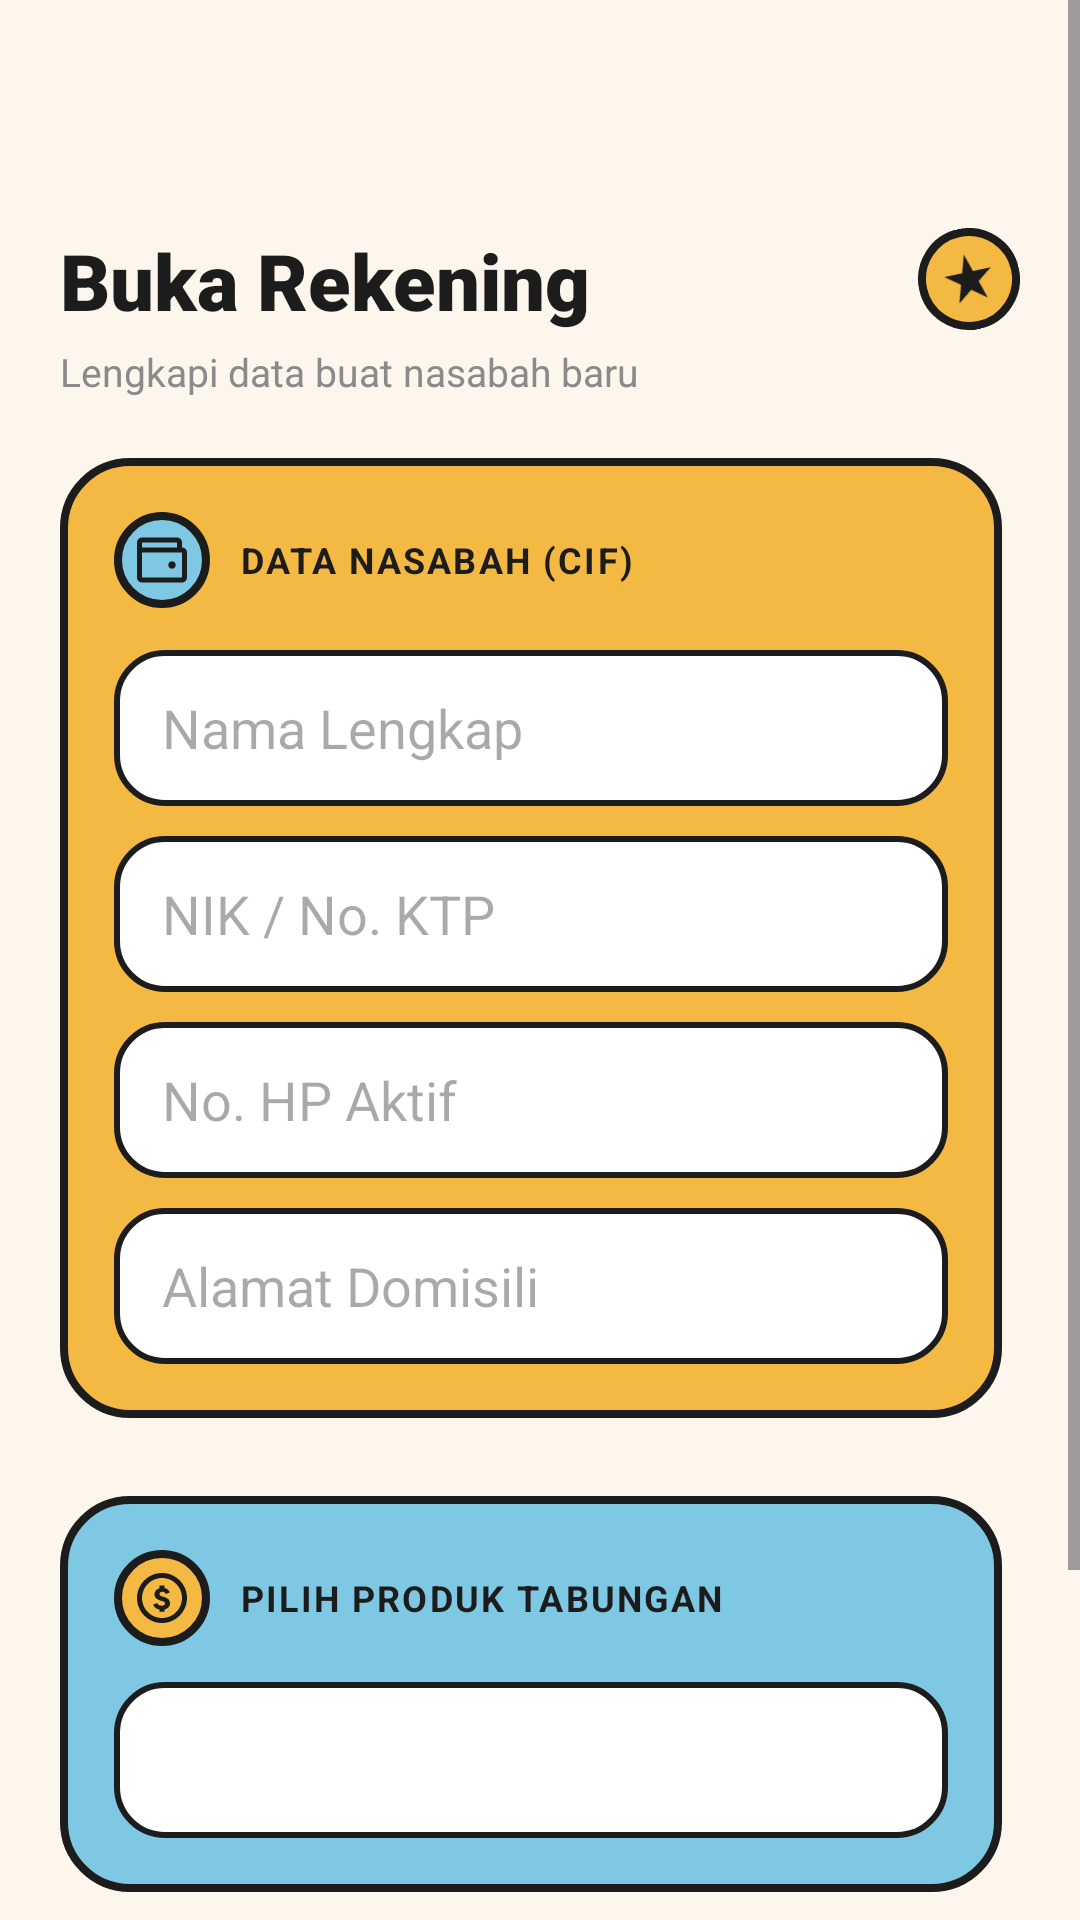

Named icons in this screenshot (1080*1920) and their bounding boxes, (x1, y1, x2, y2):
coin: (114, 1550, 210, 1646)
wallet: (114, 512, 210, 608)
